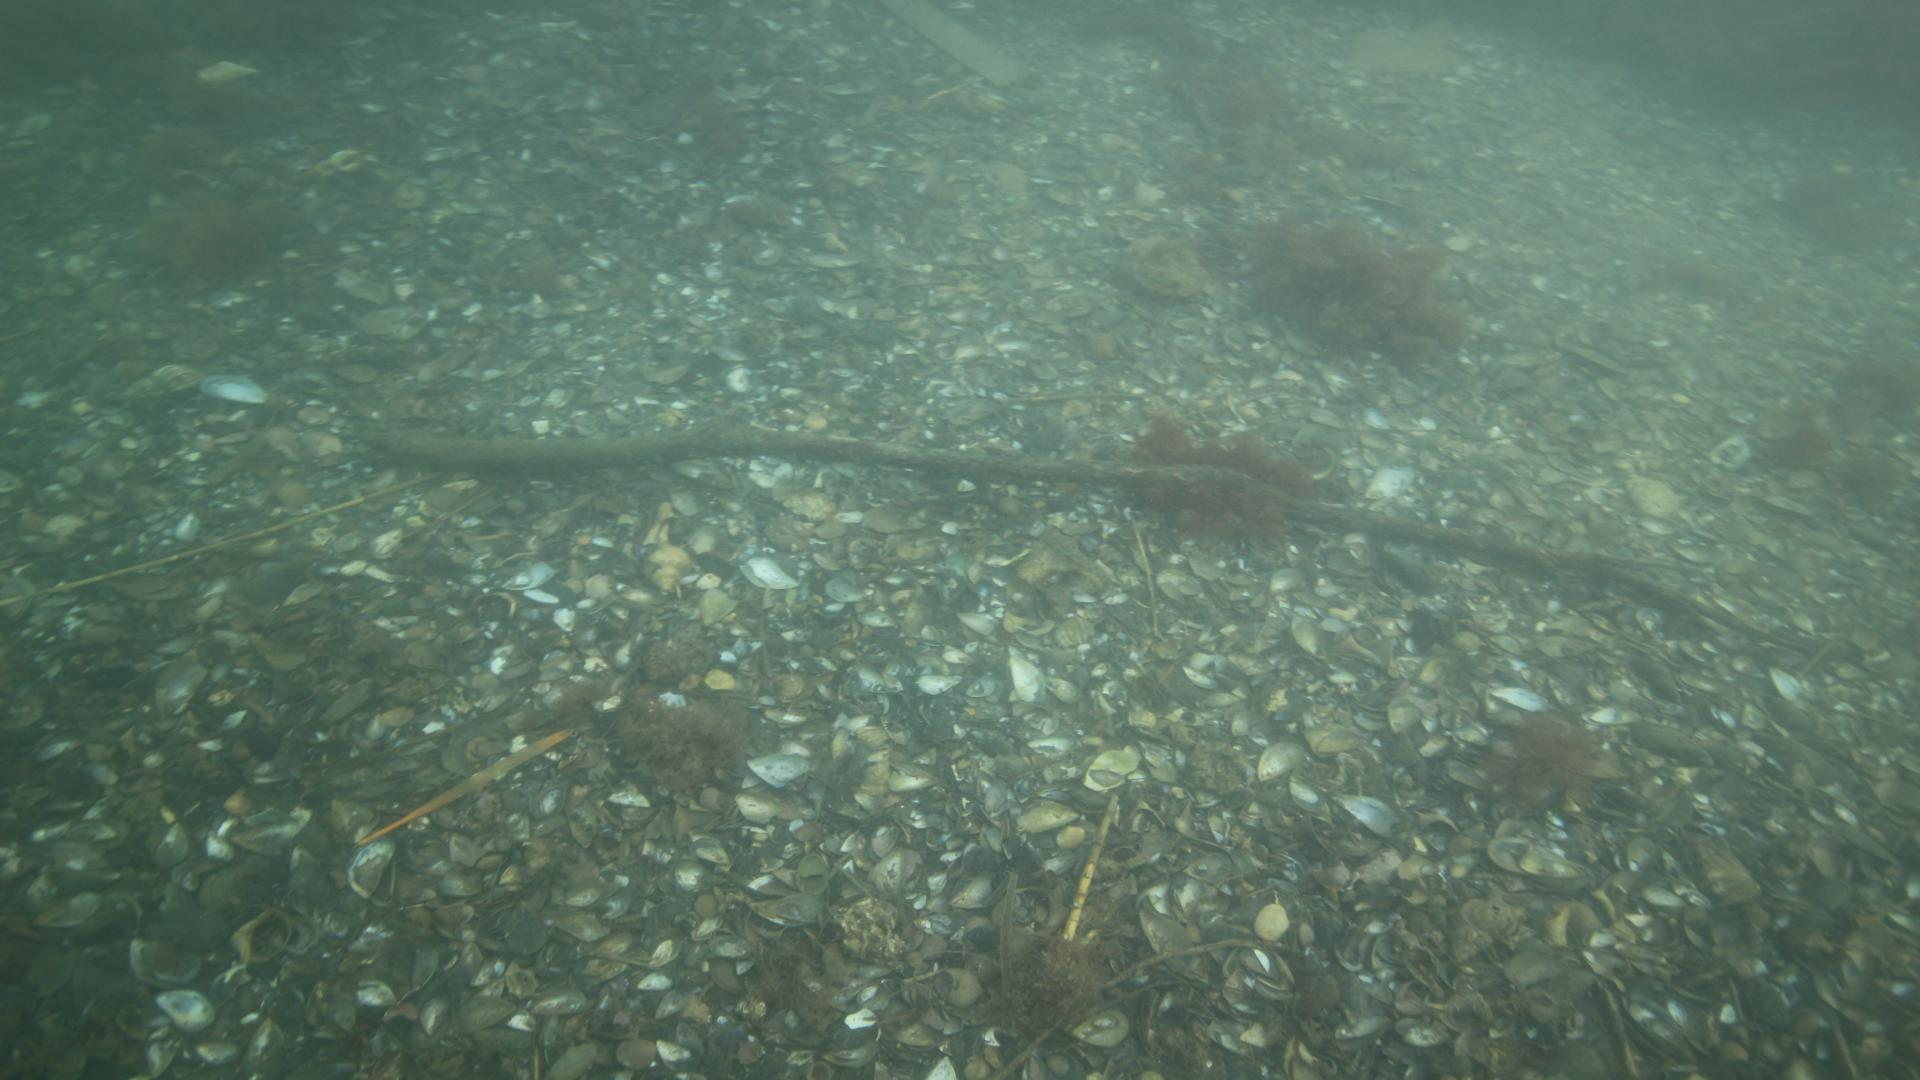wood: (361, 429, 1534, 560)
